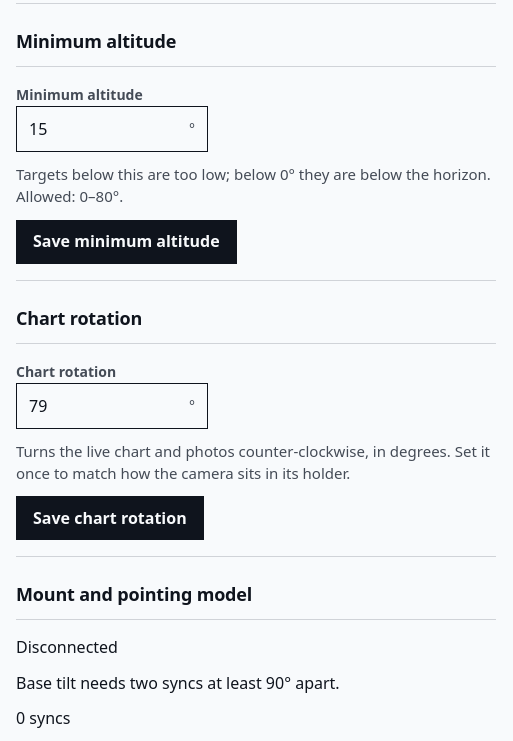
Test: Setup's chart rotation › clears the setting from an empty field and refuses anything but a number
The image size is (513, 741).
(page scrolled)
Clear the field labelled "Chart rotation" at (103, 406), box [17,384,189,428]
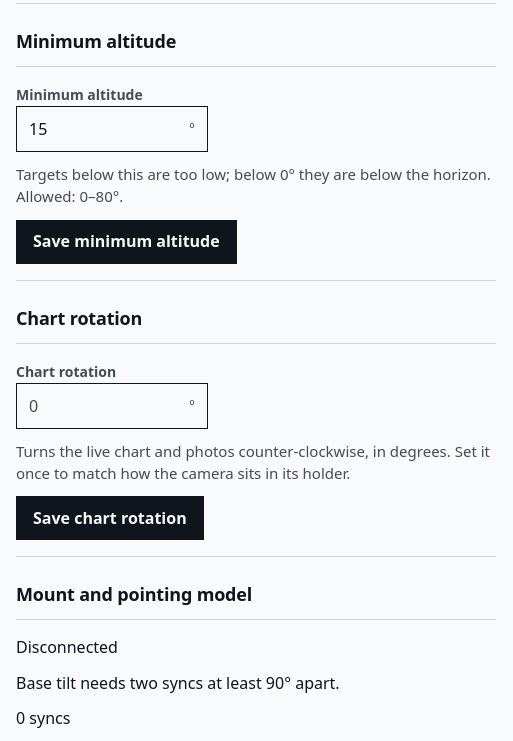
Click the button "Save chart rotation" at (110, 518), box [16,496,204,540]
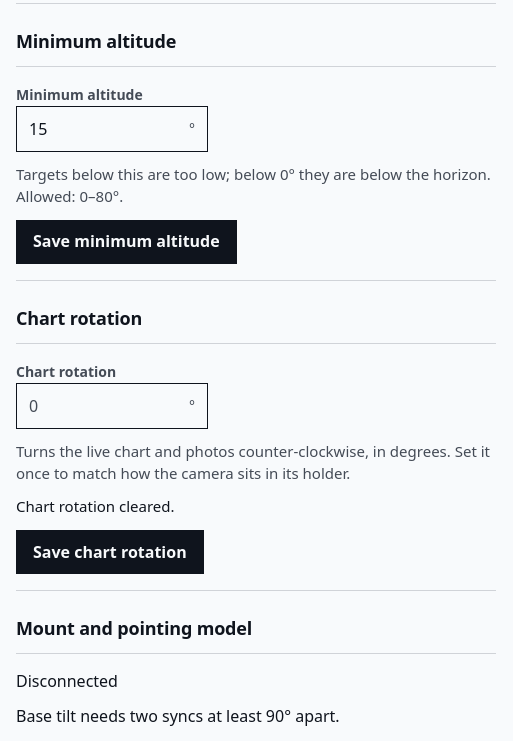
Expected: the text "Chart rotation cleared." is shown, [16,496,175,516]
Type "abc" into the field labelled "Chart rotation" at (103, 406), box [17,384,189,428]
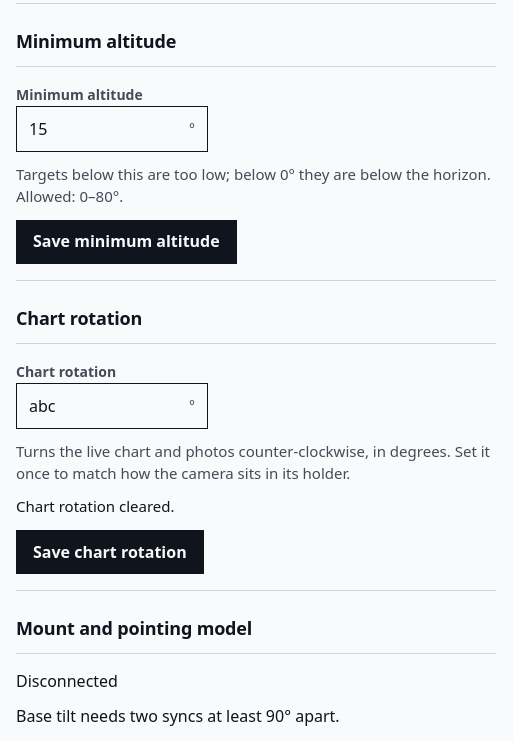
Click the button "Save chart rotation" at (110, 552), box [16,530,204,574]
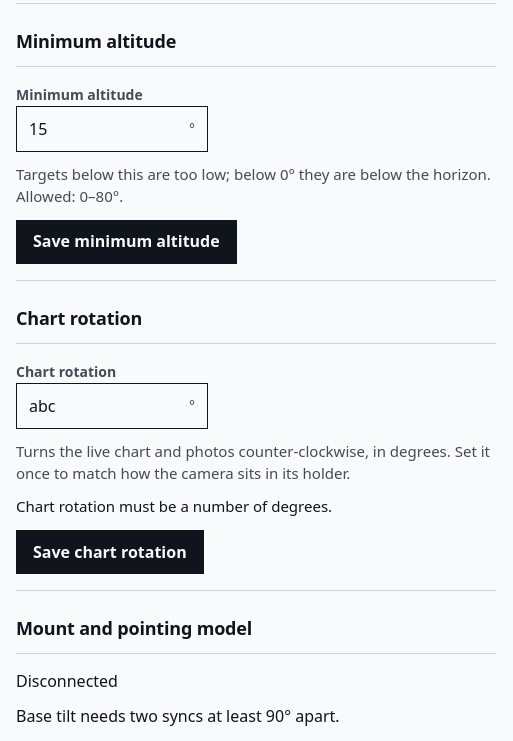
Expected: the text "Chart rotation must be a number of degrees." is shown, [16,496,332,516]
